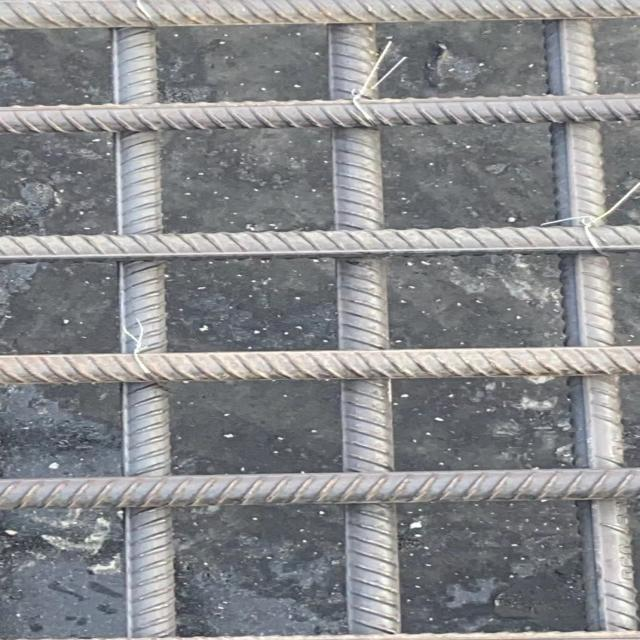ribbed bar: (539, 16, 639, 631), (320, 23, 402, 635), (110, 26, 175, 640), (0, 220, 639, 266), (0, 91, 639, 136), (0, 466, 639, 511), (0, 344, 639, 384), (0, 0, 639, 32)
